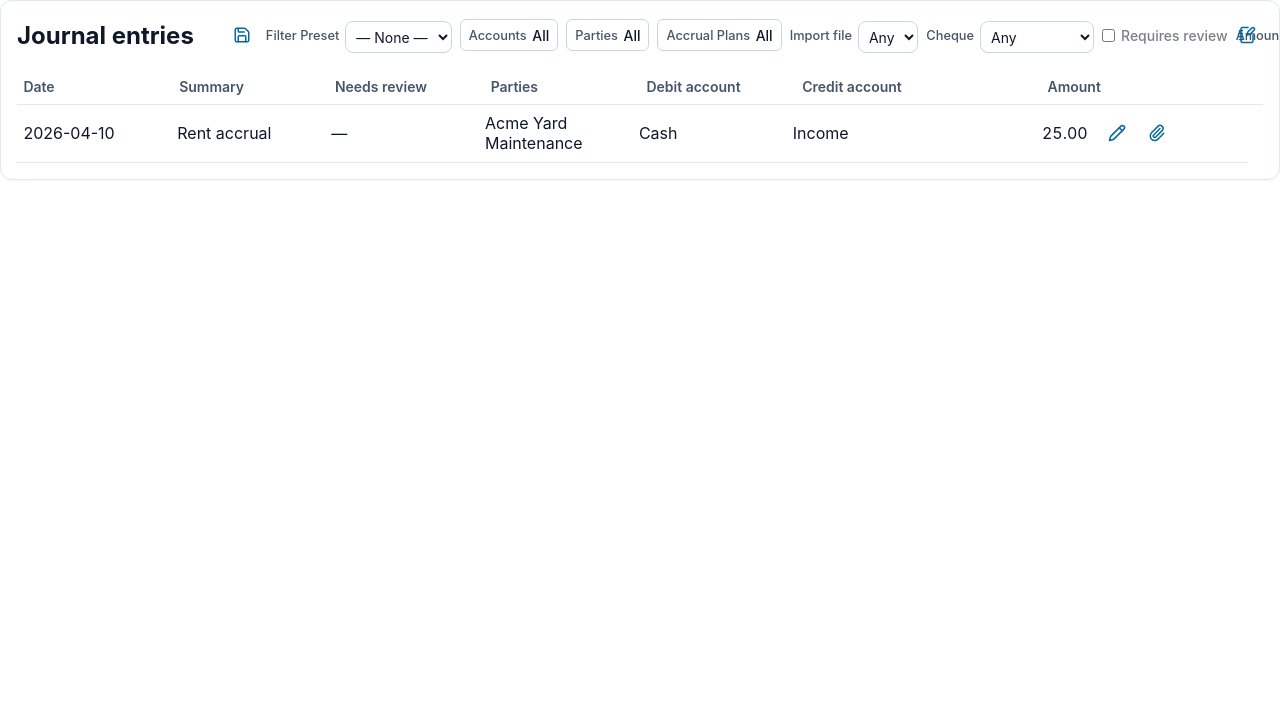
Test: JournalEntriesPanel › opens attachments from list and shows empty state
The image size is (1280, 720).
Expected: the text "Rent accrual" is shown, [171,105,325,163]
Click the button named "Attachments for Rent accrual": point(1156, 133) [1140,117,1172,149]
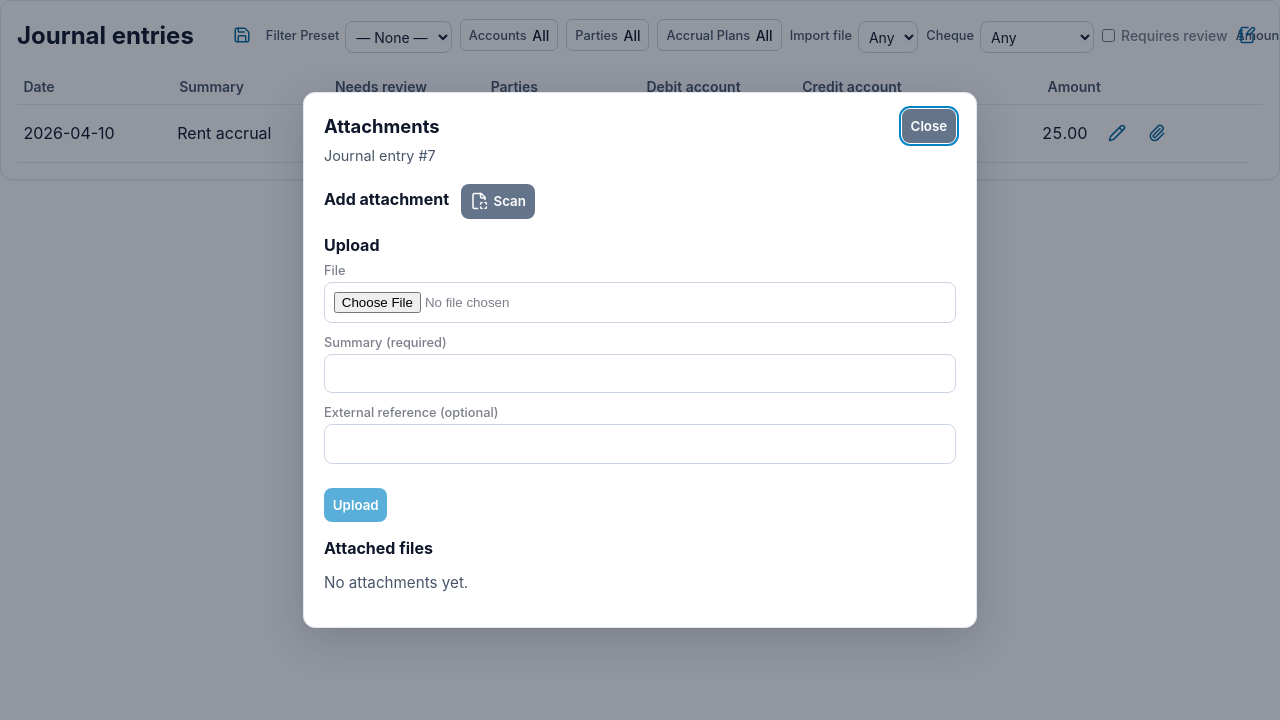
Now the heading "Attachments" is shown, box [324,115,440,137]
Now the text "No attachments yet." is shown, box [324,573,468,592]
